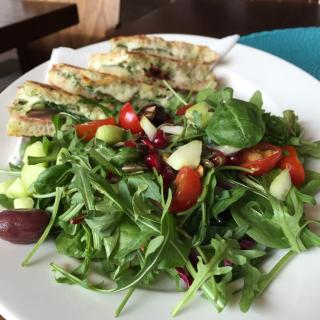tomato: (168, 165, 203, 207), (242, 141, 282, 177), (72, 118, 118, 140), (281, 144, 306, 184), (118, 102, 144, 138)
